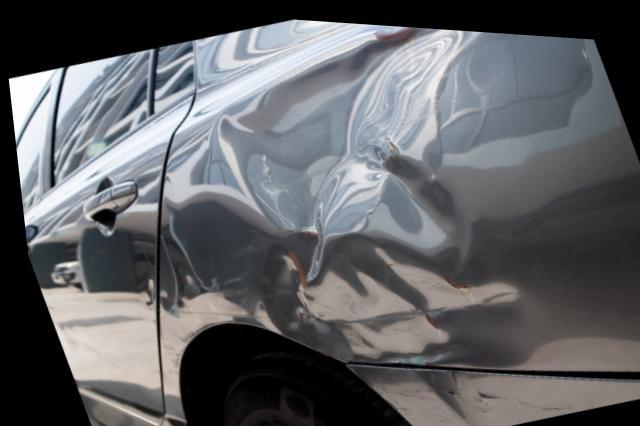dent: (172, 21, 513, 355)
